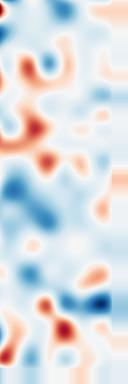filament: (17, 96, 64, 180)
